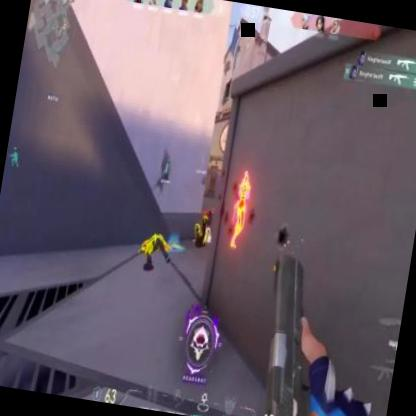enemy: (226, 170, 254, 248)
enemy_head: (242, 172, 249, 184)
